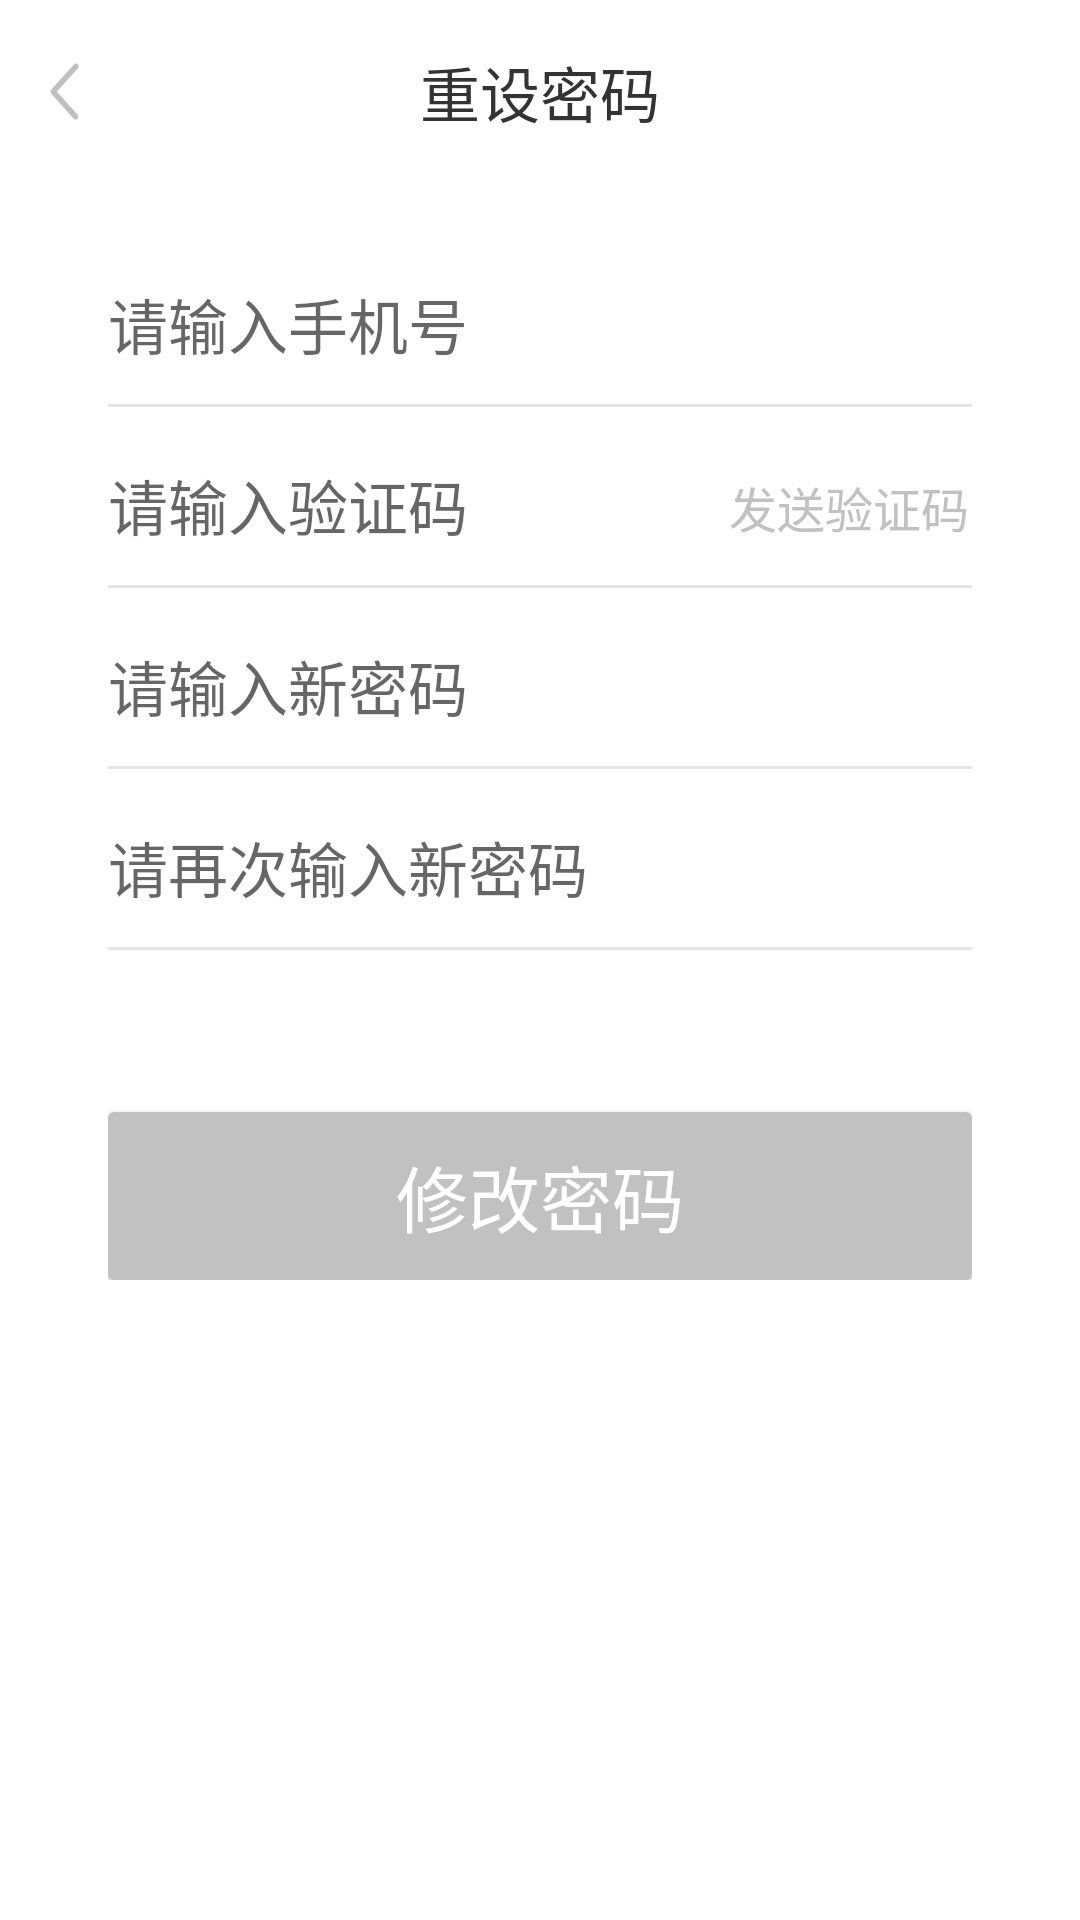

Point at icon controls on the screen. Image size 1080x1920, points as (x=x, y=y).
arrow: (x=64, y=91)
